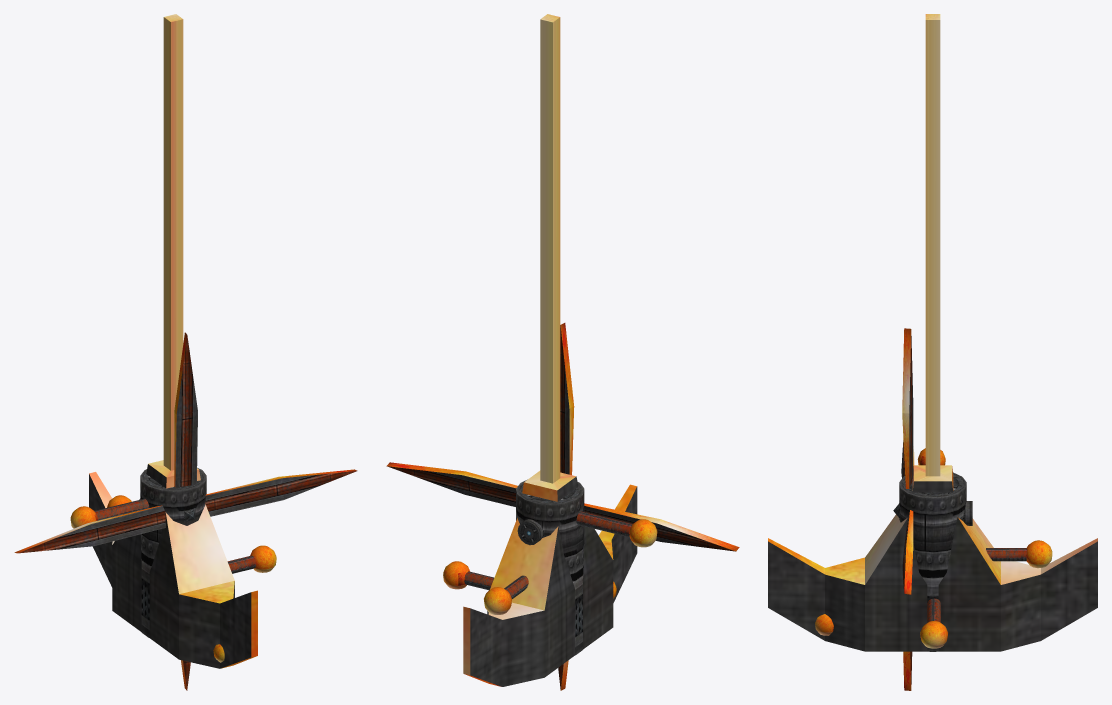
File: Game Hudels_.FBX
3 views of the same model, side by side, from view 1: azimuth 30°, elevation 25°; view 2: azimuth 150°, elevation 25°; view 3: azimuth 270°, elevation 25° (orthographic). The views are drawn at different scales.
Visible parts, largest first — view 1: Box002, Cylinder007, Cylinder001; view 2: Box002, Cylinder001, Cylinder007; view 3: Box002, Cylinder001, Cylinder007.
Part boxes in pixels (x1,y1,x2,y2): Box002: [89, 14, 257, 668]; Cylinder007: [14, 332, 357, 690]; Cylinder001: [70, 467, 276, 662]; Box002: [463, 14, 637, 686]; Cylinder001: [443, 479, 657, 655]; Cylinder007: [386, 323, 739, 690]; Box002: [768, 14, 1097, 651]; Cylinder001: [815, 448, 1052, 651]; Cylinder007: [893, 328, 972, 690].
Bounding box in the file's own units: 11.77 × 21.89 × 9.71.
Materials: 1 (1 with a texture image).
